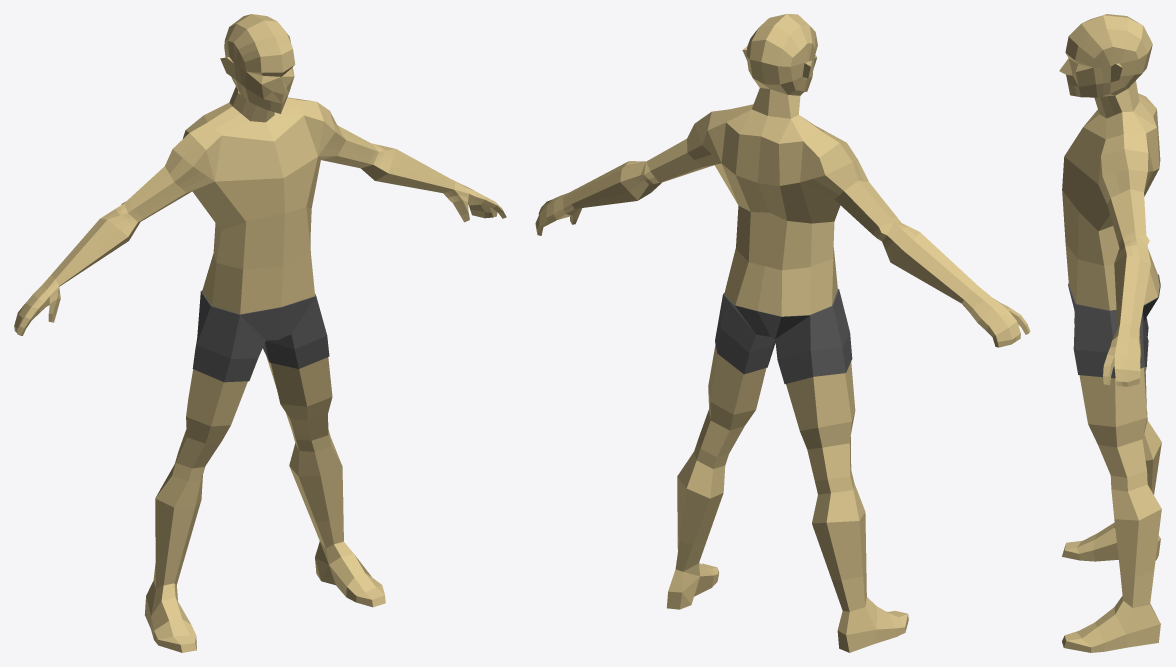
The model's file is lowpoly_male_human_base_mesh.fbx.
3 views of the same model, side by side, from view 1: azimuth 30°, elevation 25°; view 2: azimuth 150°, elevation 25°; view 3: azimuth 270°, elevation 25° (orthographic). The views are drawn at different scales.
Parts seen in each view (by area): view 1: Body; view 2: Body; view 3: Body.
Part boxes in pixels (left/top/right/bottom): Body: left=14, top=14, right=506, bottom=652; Body: left=535, top=14, right=1030, bottom=652; Body: left=1059, top=14, right=1161, bottom=652.
Size of the model in its own units: 364 by 422 by 67.37.
